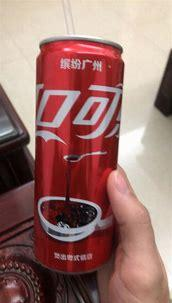metal: (34, 36, 124, 274)
